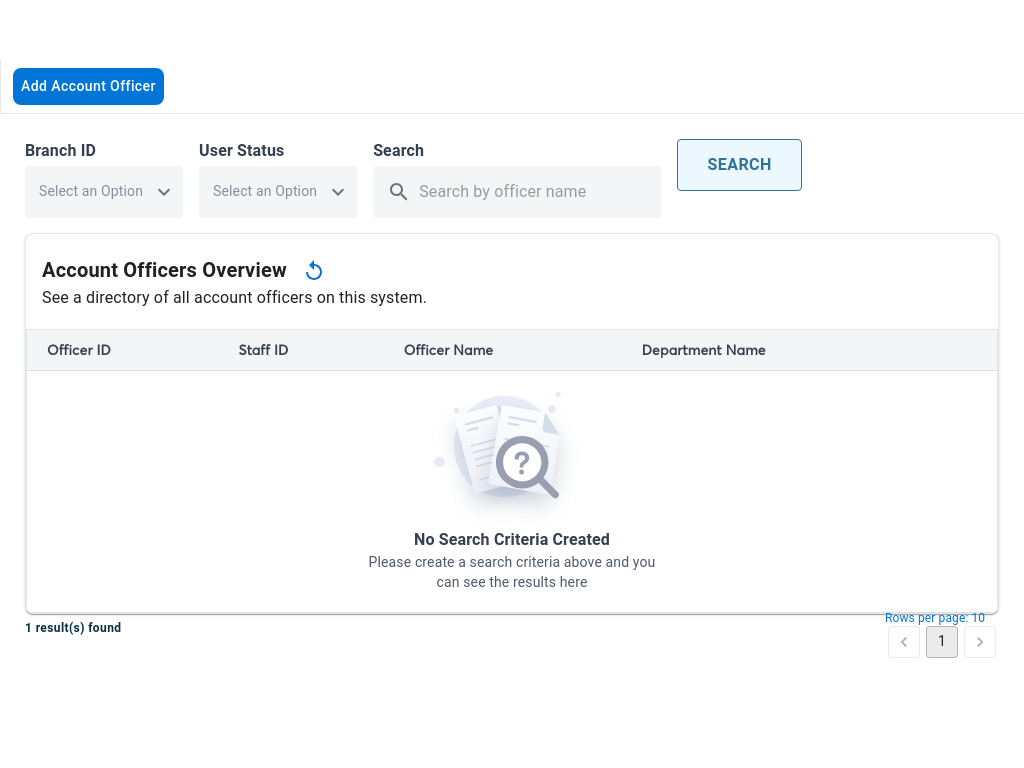
Test: AccountOfficers Component › displays account officers data in table
What coordinates should you click on to do the following:
click the button with test id "action-button"
I would click on:
 (740, 164)
Its box is [677,138,802,190].
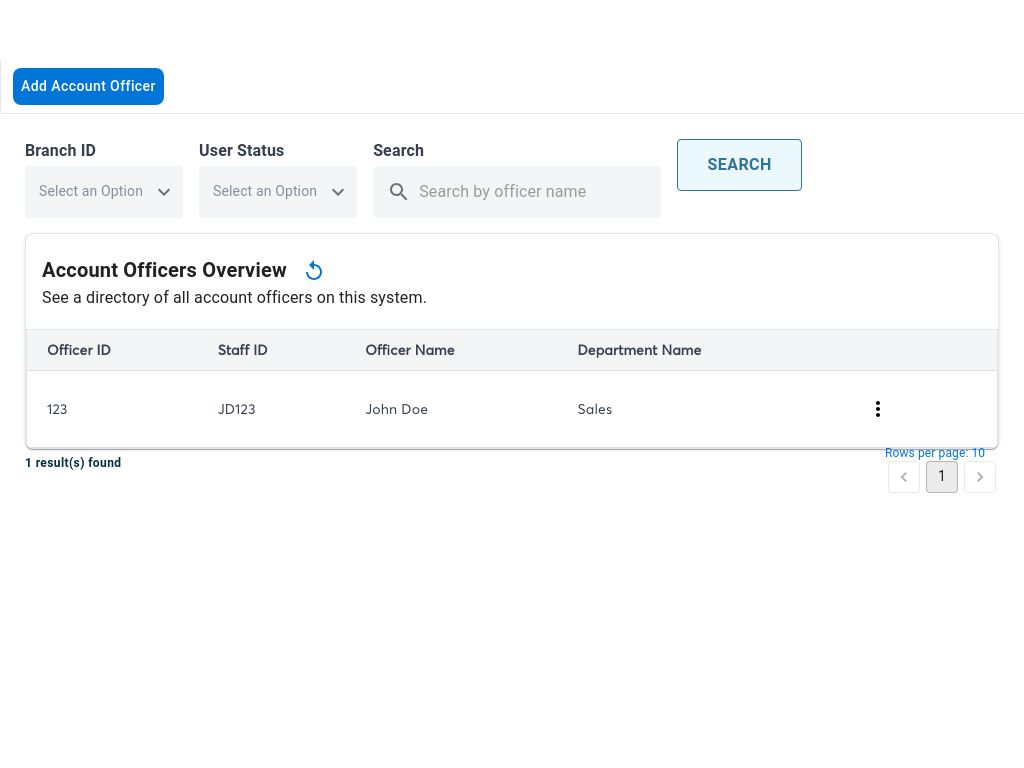
Check: the column heading "123" is shown, box [26,370,198,447]
Check: the text "John Doe" is shown, box [345,370,557,447]
Check: the text "Sales" is shown, box [557,370,826,447]
